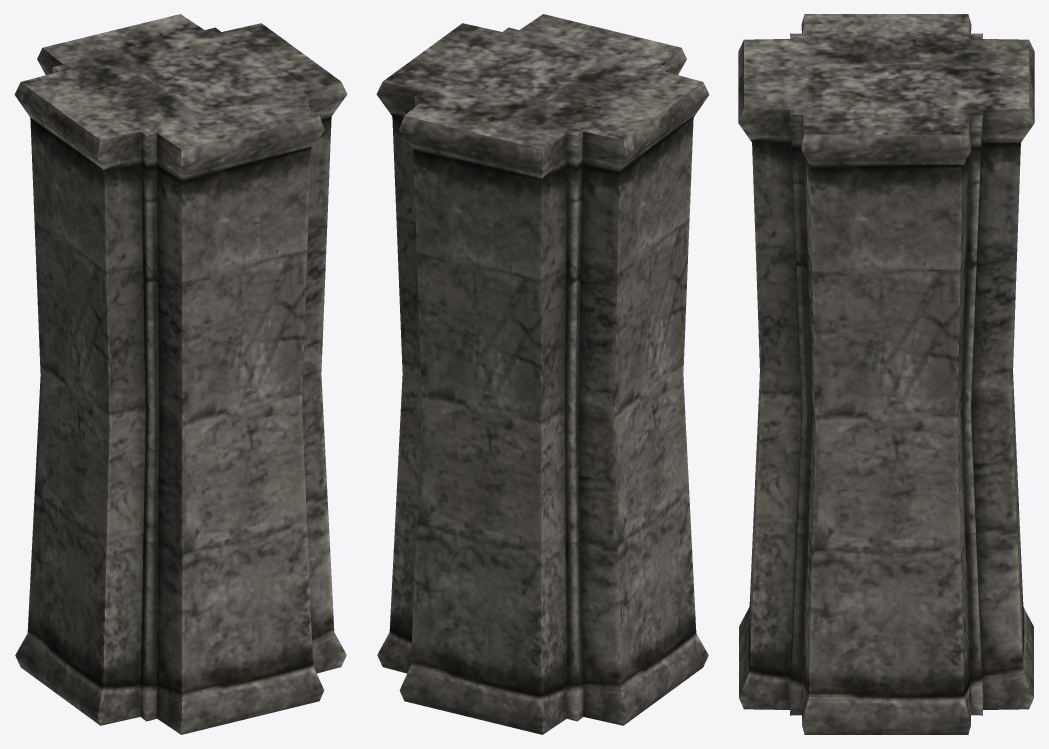
The model's file is Pillar1B.fbx.
3 views of the same model, side by side, from view 1: azimuth 30°, elevation 25°; view 2: azimuth 150°, elevation 25°; view 3: azimuth 270°, elevation 25° (orthographic). The views are drawn at different scales.
Parts seen in each view (by area): view 1: polySurface47; view 2: polySurface47; view 3: polySurface47.
Boxes of the visible parts, x1,y1,x2,y2 form: polySurface47: [14, 14, 347, 734]; polySurface47: [376, 14, 709, 734]; polySurface47: [738, 14, 1034, 734].
Bounding box in the file's own units: 2.42 × 5.41 × 2.42.
